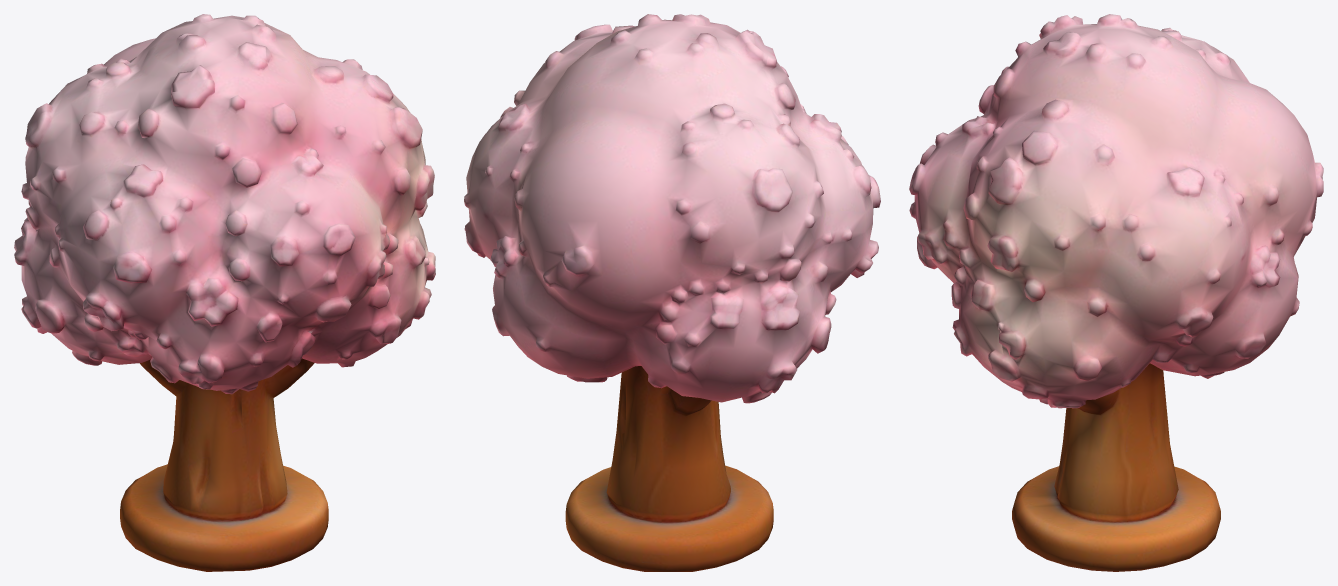
The model's file is tree-blossom.glb.
The picture shows the model from 3 angles, left to right: view 1: azimuth 30°, elevation 25°; view 2: azimuth 150°, elevation 25°; view 3: azimuth 270°, elevation 25°; orthographic projection.
Parts seen in each view (by area): view 1: tripo_node_8fd5da59-a385-4696-bc5a-21e49c4345cb; view 2: tripo_node_8fd5da59-a385-4696-bc5a-21e49c4345cb; view 3: tripo_node_8fd5da59-a385-4696-bc5a-21e49c4345cb.
Part boxes in pixels (x1,y1,x2,y2): tripo_node_8fd5da59-a385-4696-bc5a-21e49c4345cb: (14, 14, 435, 571); tripo_node_8fd5da59-a385-4696-bc5a-21e49c4345cb: (464, 14, 880, 571); tripo_node_8fd5da59-a385-4696-bc5a-21e49c4345cb: (909, 14, 1323, 571).
Size of the model in its own units: 0.7168 by 0.998 by 0.748.
1 material, 1 textured.
